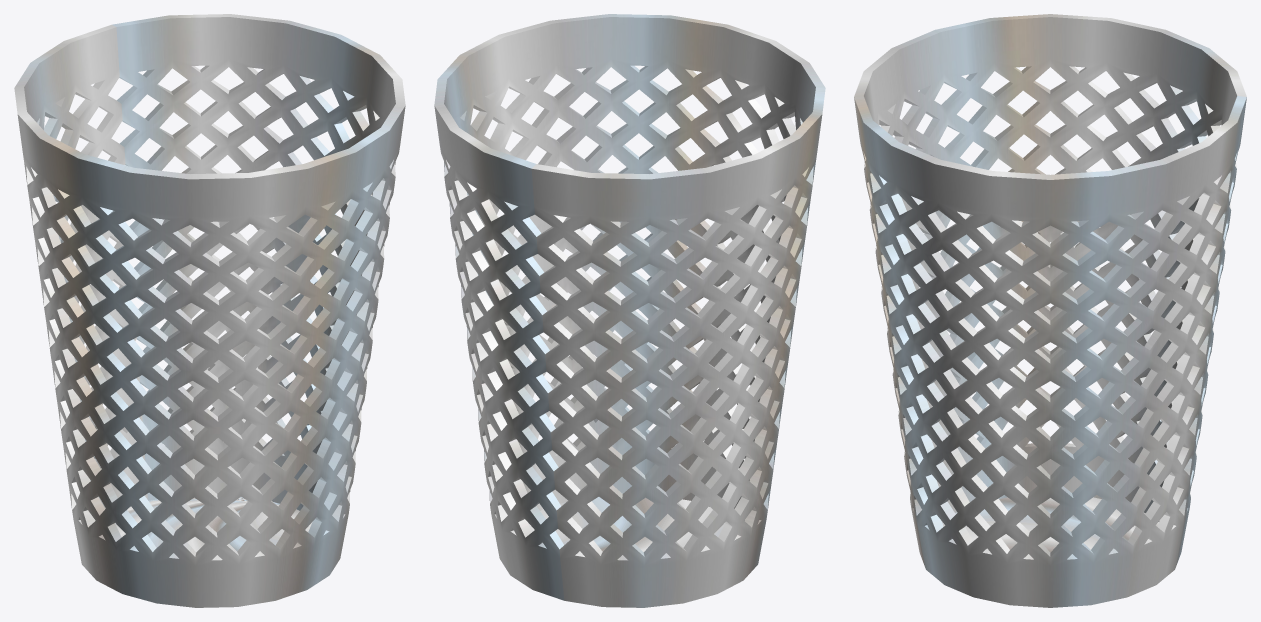
File: Papelera.fbx
3 renders of one model, left to right at view 1: azimuth 30°, elevation 25°; view 2: azimuth 150°, elevation 25°; view 3: azimuth 270°, elevation 25°, orthographic.
Visible parts, largest first — view 1: Papelera; view 2: Papelera; view 3: Papelera.
Boxes of the visible parts, left/top/right/bottom form: Papelera: left=14, top=14, right=405, bottom=607; Papelera: left=434, top=14, right=825, bottom=607; Papelera: left=854, top=14, right=1246, bottom=607.
Size of the model in its own units: 23.73 by 30.43 by 23.73.
Materials: 1 (1 with a texture image).
